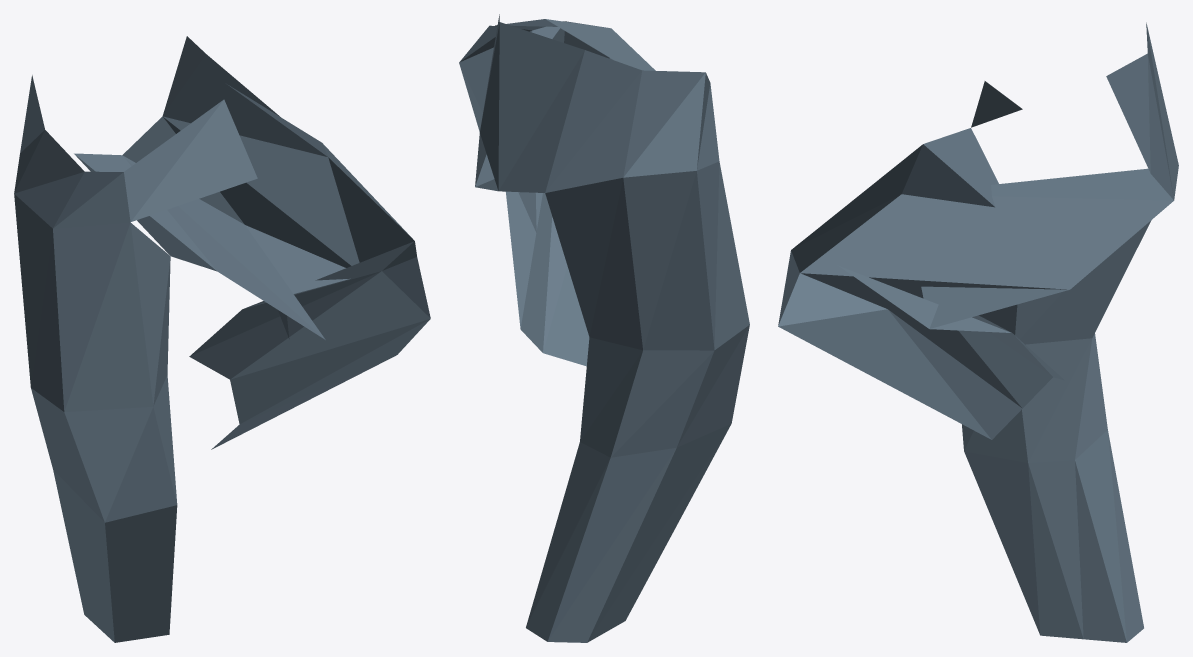
3 renders of one model, left to right at view 1: azimuth 30°, elevation 25°; view 2: azimuth 150°, elevation 25°; view 3: azimuth 270°, elevation 25°, orthographic. The views are drawn at different scales.
Bounding box in the file's own units: 0.6 × 1.19 × 0.7229.
Materials: 1 (1 with a texture image).
